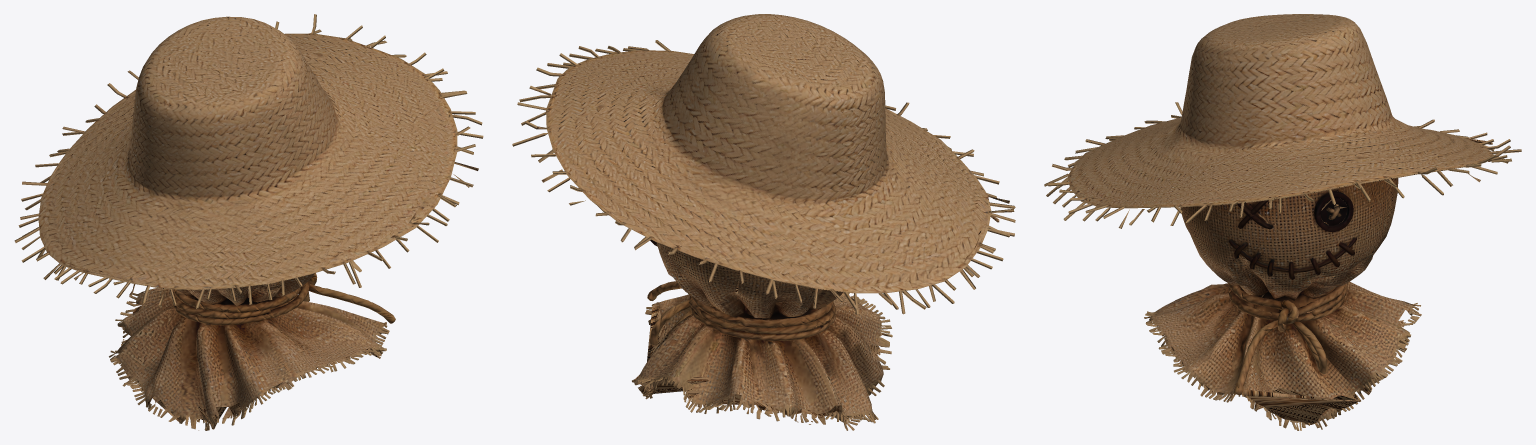
3 renders of one model, left to right at view 1: azimuth 30°, elevation 25°; view 2: azimuth 150°, elevation 25°; view 3: azimuth 270°, elevation 25°, orthographic. The views are drawn at different scales.
Parts seen in each view (by area): view 1: tripo_node_747cf2d8; view 2: tripo_node_747cf2d8; view 3: tripo_node_747cf2d8.
Part boxes in pixels (left/top/right/bottom): tripo_node_747cf2d8: left=14, top=14, right=483, bottom=430; tripo_node_747cf2d8: left=512, top=14, right=1015, bottom=430; tripo_node_747cf2d8: left=1044, top=14, right=1521, bottom=430.
Bounding box in the file's own units: 0.9995 × 0.8491 × 0.9995.
Materials: 1 (1 with a texture image).
